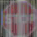Stop: (3, 5, 36, 33)
